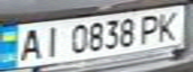0: (66, 20, 90, 55)
3: (103, 17, 124, 51)
8: (118, 15, 142, 47), (87, 19, 106, 53)
A: (12, 25, 48, 62)
I: (36, 24, 66, 58)
K: (151, 8, 187, 42)
P: (136, 11, 166, 45)
